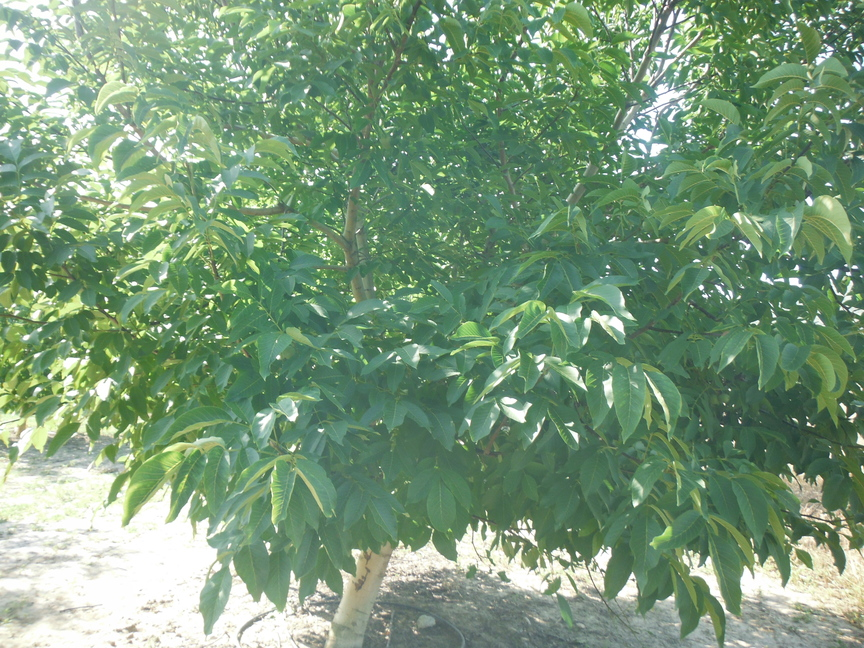walnut: (281, 344, 298, 363), (718, 391, 733, 405), (708, 393, 720, 408)
